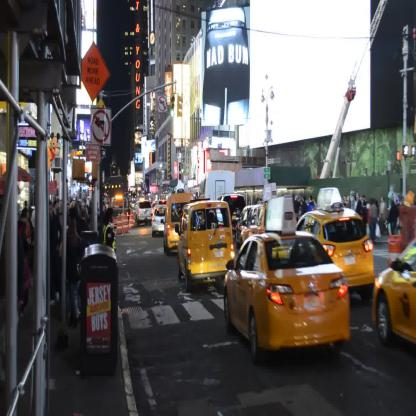car: (224, 232, 350, 360), (296, 207, 374, 303), (175, 201, 234, 295), (164, 193, 198, 255), (151, 204, 167, 237), (133, 201, 153, 225)
